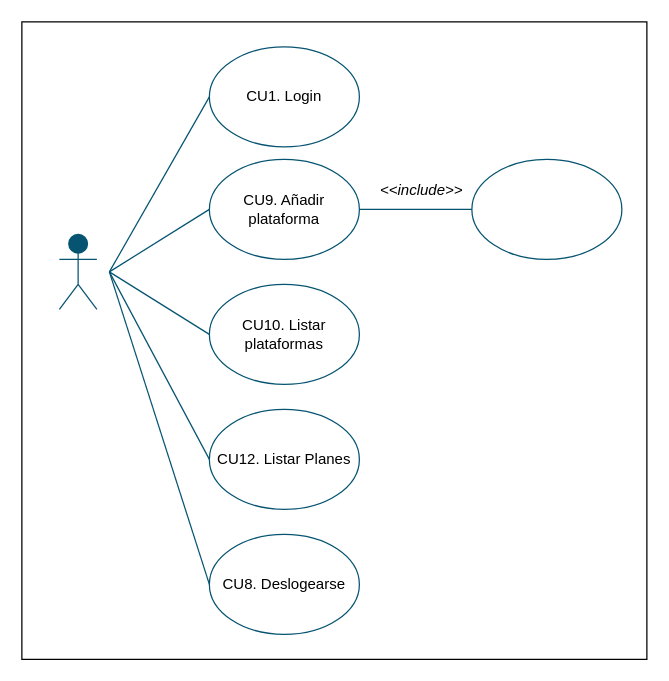
The diagram is 669 pixels wide and 681 high, and some of its shapes have lost their labels. Each missing label, with the box of its shape:
Administrador: (58, 233, 97, 309)
CU11. Añadir plan: (471, 158, 622, 259)
